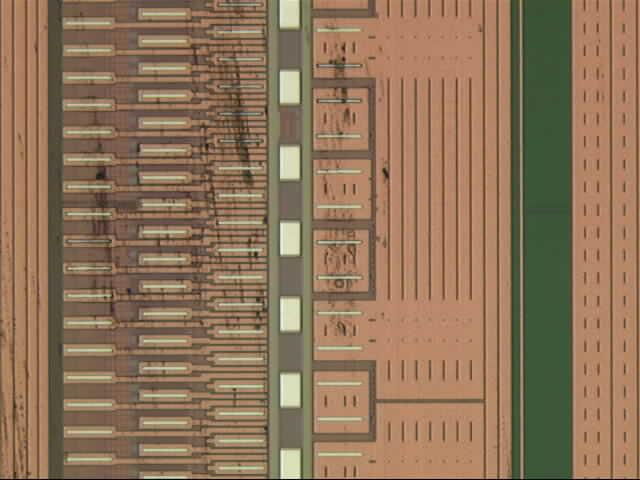SCRATCH: (1, 1, 393, 480)
